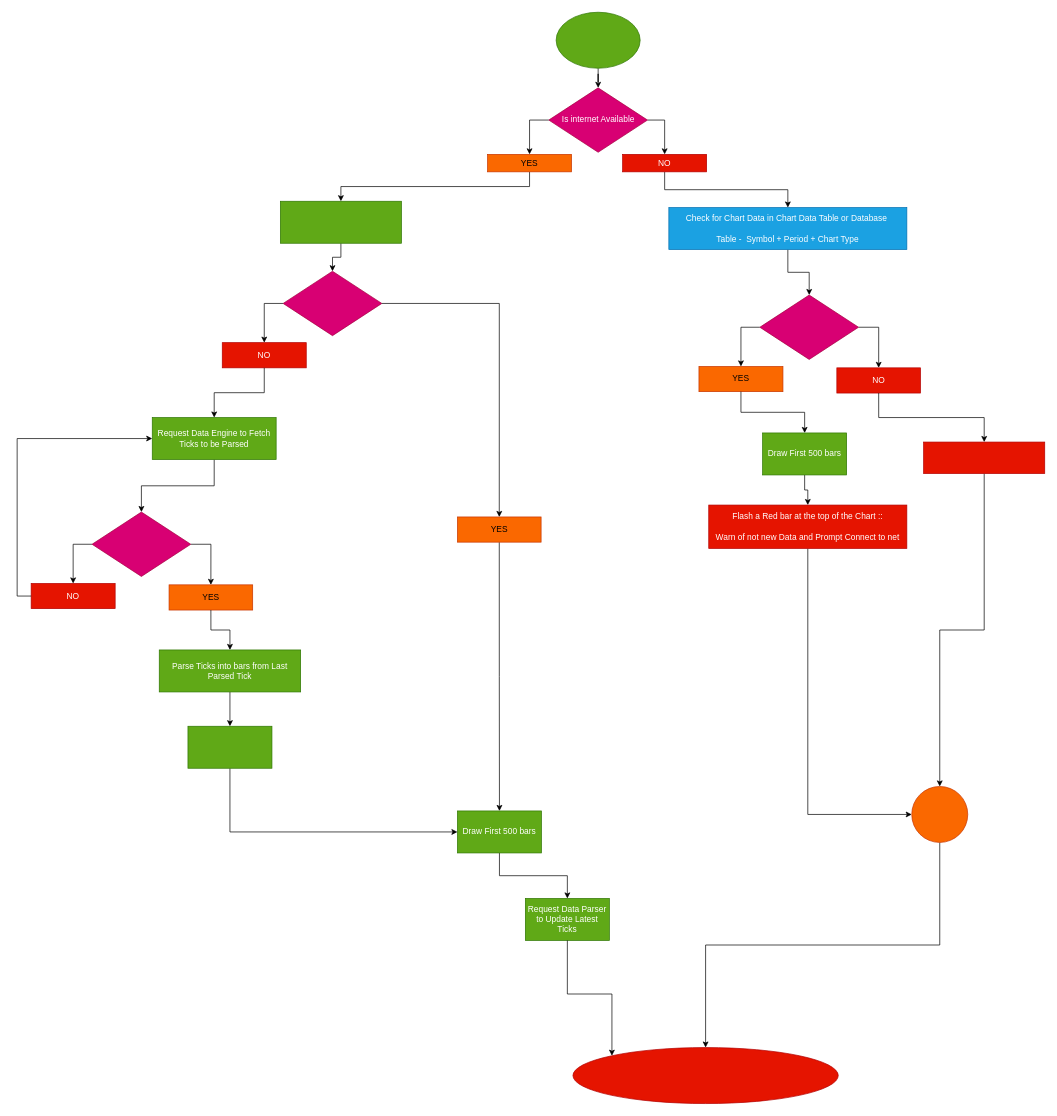
This 1057x1116 diagram has some shape labels left out. The centre of each missing label's shape, as x and y in pixels:
Data Available: the point at 809,326
Display Error on Chart and Prompt Connect to Internet: the point at 984,457
END: the point at 705,1075
Previous bars Available: the point at 332,303
Request Previous bars from Chart Data Library: the point at 340,222
Send Bars to Data Library: the point at 229,747
Start: the point at 597,40
Ticks Fetched: the point at 141,543
